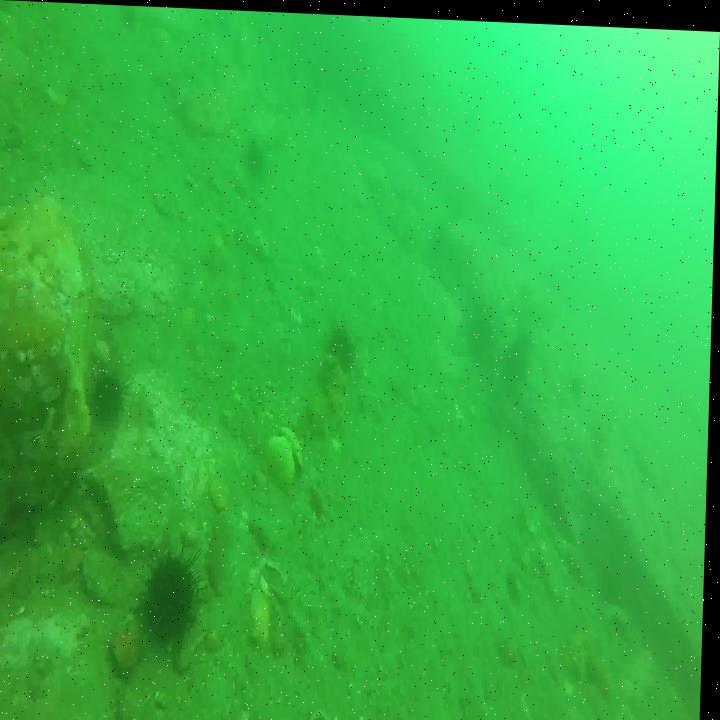echinus: (145, 552, 202, 644), (94, 370, 129, 421)
holothurian: (309, 350, 349, 441)
scallop: (269, 420, 307, 490)
